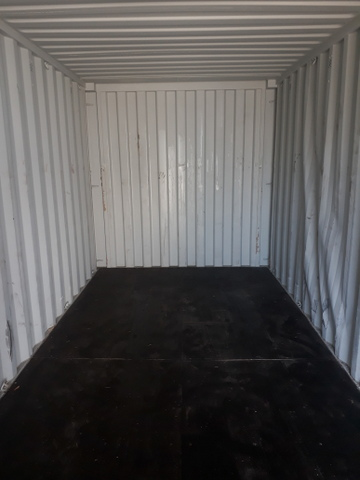dented: (295, 176, 355, 348)
